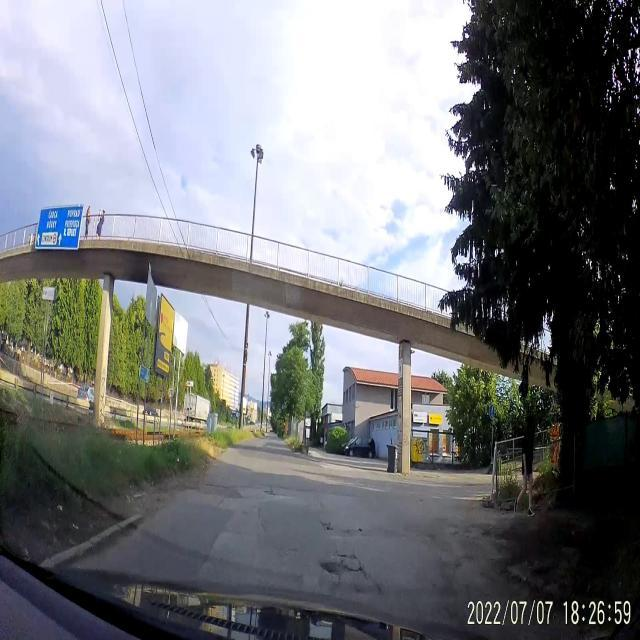Pothole: (316, 541, 362, 577), (318, 514, 371, 540)
